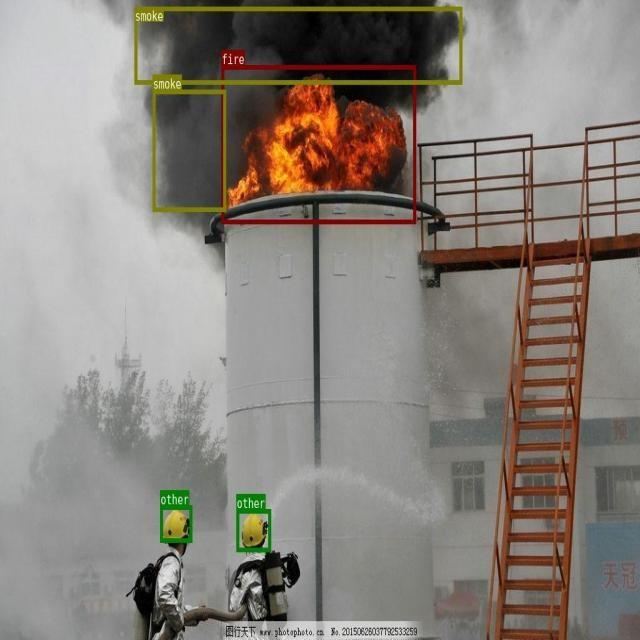fire: (221, 65, 415, 223)
smoke: (134, 6, 461, 83), (153, 89, 226, 211)
